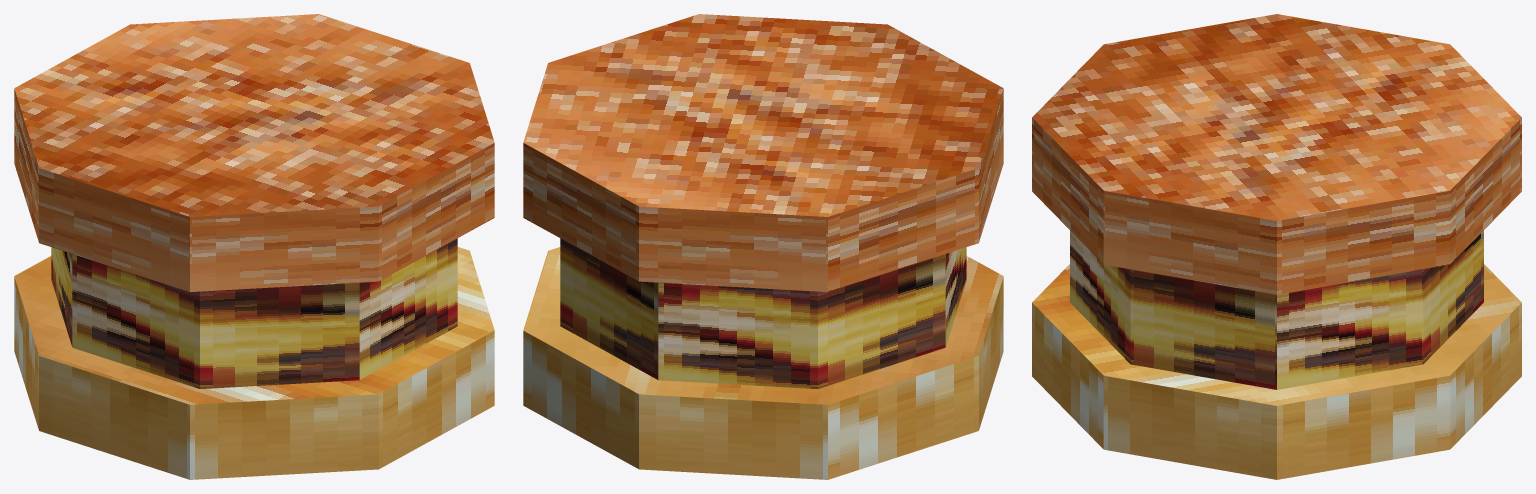
The model's file is burger.glb.
The picture shows the model from 3 angles, left to right: view 1: azimuth 30°, elevation 25°; view 2: azimuth 150°, elevation 25°; view 3: azimuth 270°, elevation 25°; orthographic projection.
Parts seen in each view (by area): view 1: Cylinder.001; view 2: Cylinder.001; view 3: Cylinder.001.
Boxes of the visible parts, x1,y1,x2,y2 form: Cylinder.001: (14, 14, 494, 479); Cylinder.001: (523, 14, 1003, 479); Cylinder.001: (1032, 14, 1521, 479).
Size of the model in its own units: 0.12 by 0.07 by 0.12.
Materials: 1 (1 with a texture image).
